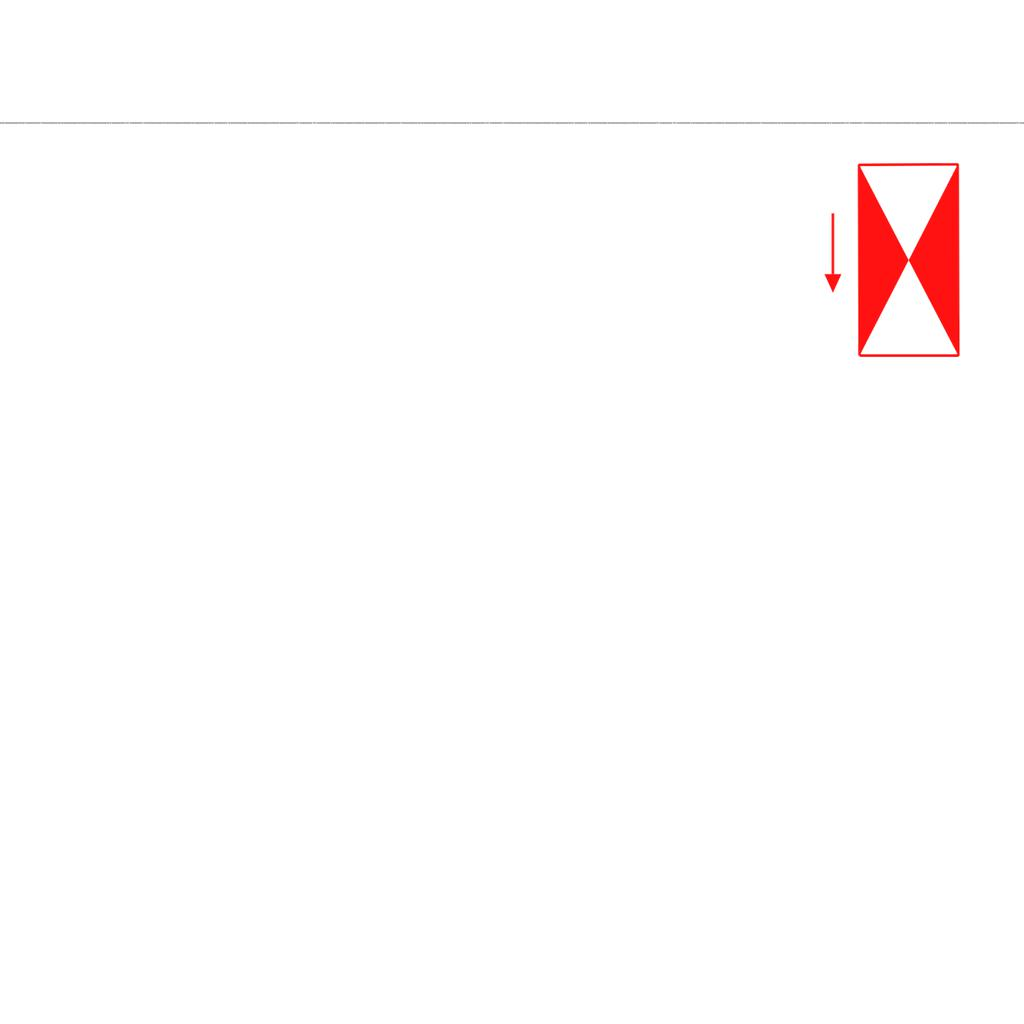Fluchtwegpiktogramm: (819, 156, 966, 364)
